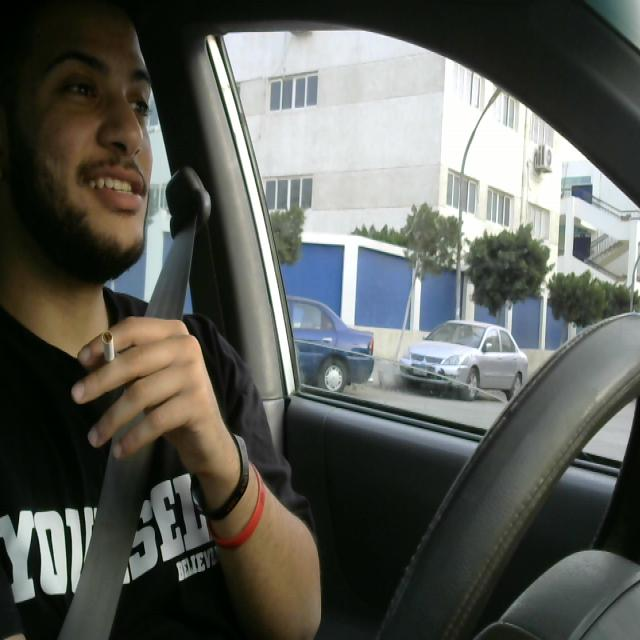smoking: (100, 322, 116, 376)
